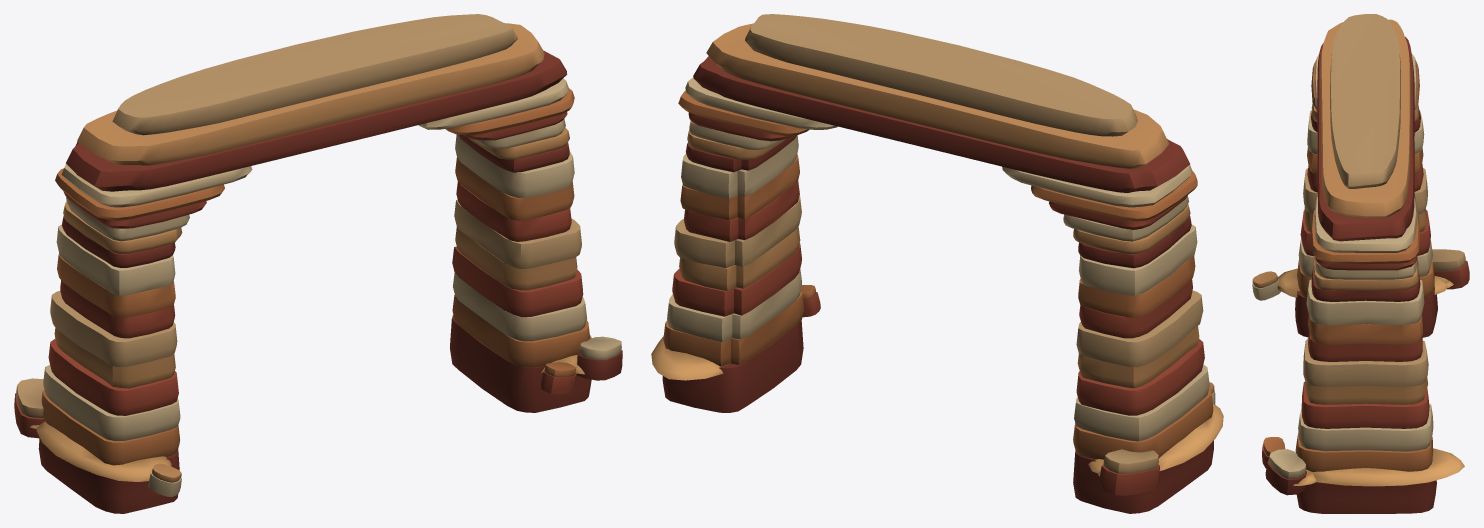
The model's file is rock_arch.glb.
3 renders of one model, left to right at view 1: azimuth 30°, elevation 25°; view 2: azimuth 150°, elevation 25°; view 3: azimuth 270°, elevation 25°, orthographic. The views are drawn at different scales.
Parts seen in each view (by area): view 1: rock_arch; view 2: rock_arch; view 3: rock_arch.
Part boxes in pixels (box(x1,y1,x2,y2)): rock_arch: box(14, 14, 622, 513); rock_arch: box(651, 14, 1223, 513); rock_arch: box(1252, 14, 1469, 513).
Size of the model in its own units: 20.71 by 13.95 by 8.56.
